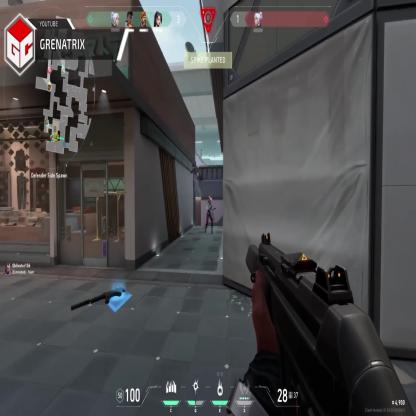enemy: (204, 194, 214, 232)
enemy_head: (209, 196, 212, 203)
